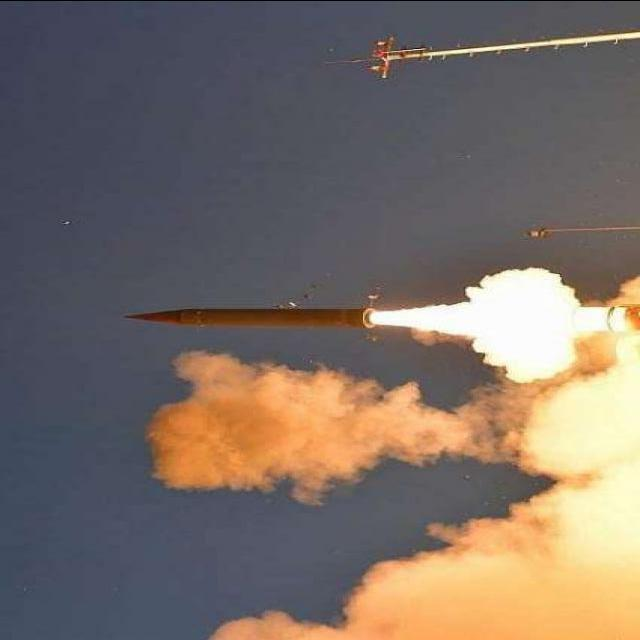missile: (111, 304, 384, 330)
